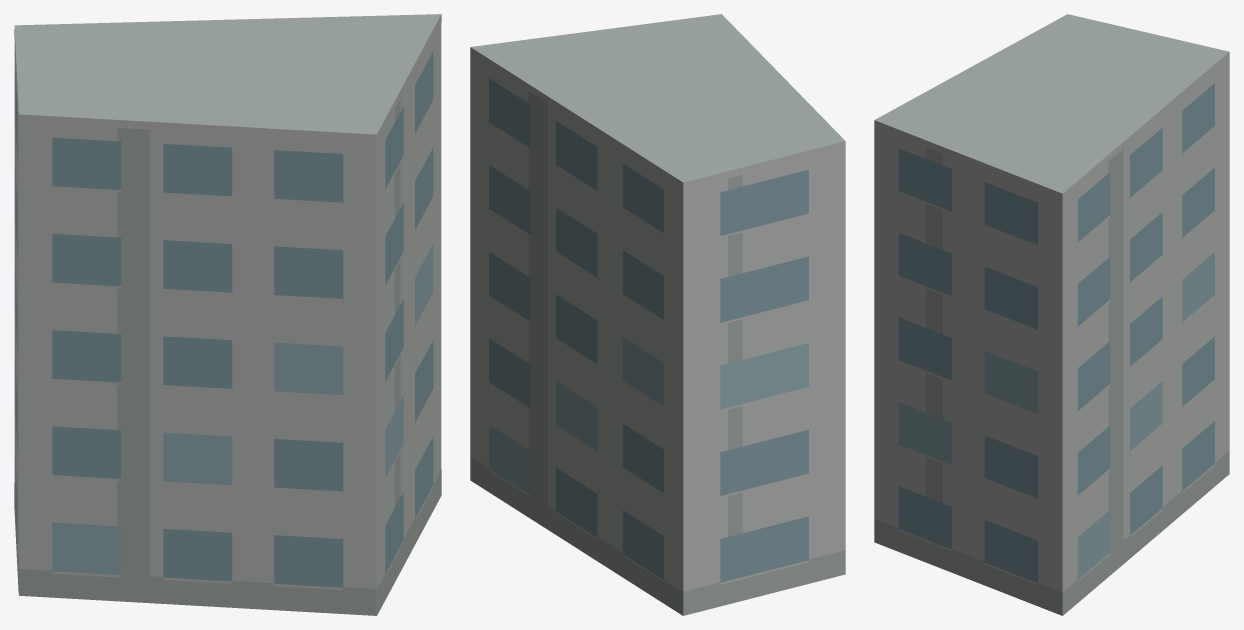
The model's file is survey-upis-32723713.glb.
3 renders of one model, left to right at view 1: azimuth 30°, elevation 25°; view 2: azimuth 150°, elevation 25°; view 3: azimuth 270°, elevation 25°, orthographic. The views are drawn at different scales.
Parts seen in each view (by area): view 1: survey-upis-32723713.tmp; view 2: survey-upis-32723713.tmp; view 3: survey-upis-32723713.tmp.
Boxes of the visible parts, bbox=[...] form: survey-upis-32723713.tmp: bbox=[14, 14, 441, 615]; survey-upis-32723713.tmp: bbox=[470, 14, 845, 615]; survey-upis-32723713.tmp: bbox=[874, 14, 1229, 615].
Size of the model in its own units: 13.47 by 14.75 by 11.26.
